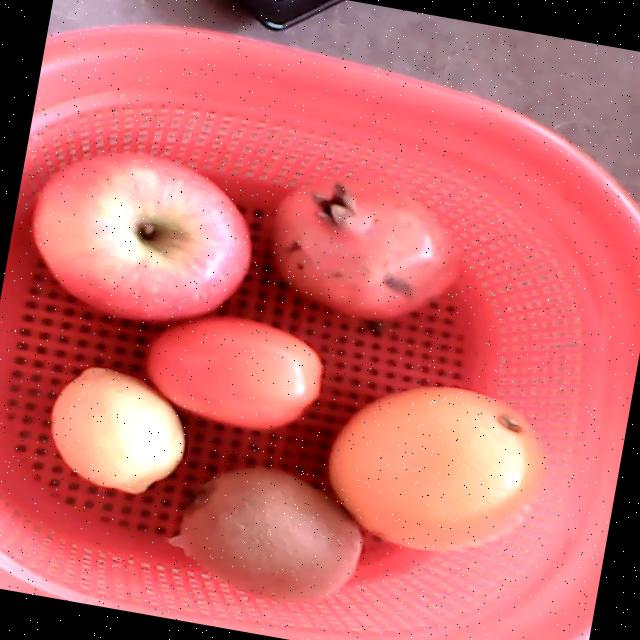apple: (34, 151, 252, 320)
kiwi: (181, 467, 361, 600)
lemon: (50, 368, 184, 494)
orange: (329, 385, 541, 553)
pomegranate: (268, 172, 460, 321)
tomato: (146, 314, 321, 429)
